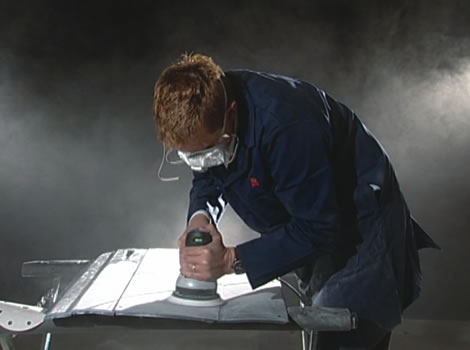noepi: (153, 53, 437, 350)
